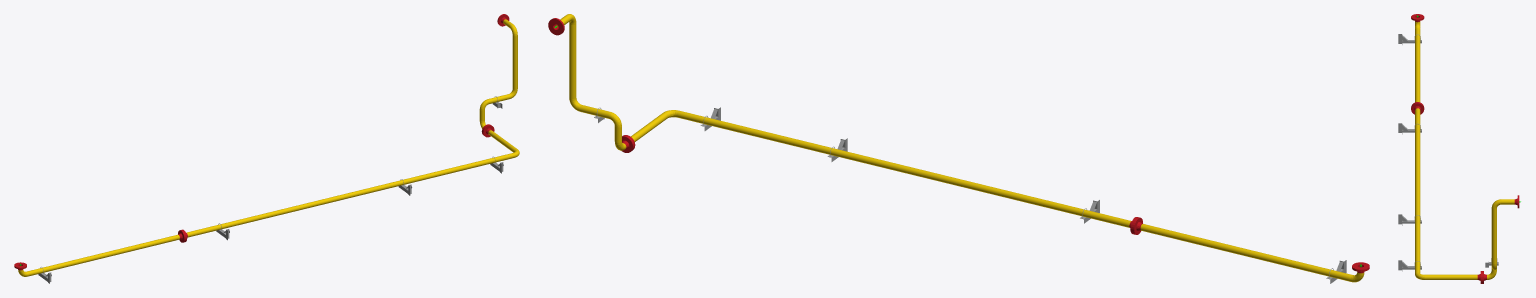
File: Phase43 (2).fbx
The picture shows the model from 3 angles, left to right: view 1: azimuth 30°, elevation 25°; view 2: azimuth 150°, elevation 25°; view 3: azimuth 270°, elevation 25°; orthographic projection. The views are drawn at different scales.
Visible parts, largest first — view 1: Типы трубопроводов:CPS_Бесшовная труба из нс:1539507, Типы трубопроводов:CPS_Бесшовная труба из нс:1539494, Типы трубопроводов:CPS_Бесшовная труба из нс:1538591, Типы трубопроводов:CPS_Бесшовная труба из нс:1540262; view 2: Типы трубопроводов:CPS_Бесшовная труба из нс:1539507, Типы трубопроводов:CPS_Бесшовная труба из нс:1539494, Типы трубопроводов:CPS_Бесшовная труба из нс:1538591, Типы трубопроводов:CPS_Бесшовная труба из нс:1540262; view 3: Типы трубопроводов:CPS_Бесшовная труба из нс:1539507, Типы трубопроводов:CPS_Бесшовная труба из нс:1539494, Типы трубопроводов:CPS_Бесшовная труба из нс:1538591, Типы трубопроводов:CPS_Бесшовная труба из нс:1540262, Типы трубопроводов:CPS_Бесшовная труба из нс:1539481, Сталь нержавеющая Фланец (×2).
Boxes of the visible parts, x1,y1,x2,y2 form: Типы трубопроводов:CPS_Бесшовная труба из нс:1539507: [348, 153, 514, 197]; Типы трубопроводов:CPS_Бесшовная труба из нс:1539494: [186, 193, 349, 237]; Типы трубопроводов:CPS_Бесшовная труба из нс:1538591: [27, 234, 179, 276]; Типы трубопроводов:CPS_Бесшовная труба из нс:1540262: [512, 35, 517, 89]; Типы трубопроводов:CPS_Бесшовная труба из нс:1539507: [676, 110, 906, 173]; Типы трубопроводов:CPS_Бесшовная труба из нс:1539494: [905, 166, 1131, 227]; Типы трубопроводов:CPS_Бесшовная труба из нс:1538591: [1140, 224, 1352, 281]; Типы трубопроводов:CPS_Бесшовная труба из нс:1540262: [569, 24, 576, 98]; Типы трубопроводов:CPS_Бесшовная труба из нс:1539507: [1415, 189, 1420, 273]; Типы трубопроводов:CPS_Бесшовная труба из нс:1539494: [1415, 108, 1420, 190]; Типы трубопроводов:CPS_Бесшовная труба из нс:1538591: [1415, 28, 1420, 102]; Типы трубопроводов:CPS_Бесшовная труба из нс:1540262: [1491, 209, 1496, 264]; Типы трубопроводов:CPS_Бесшовная труба из нс:1539481: [1425, 274, 1477, 279]; Сталь нержавеющая Фланец (×2): [1411, 14, 1424, 114].
Size of the model in its own units: 10730 by 2055 by 1920.
